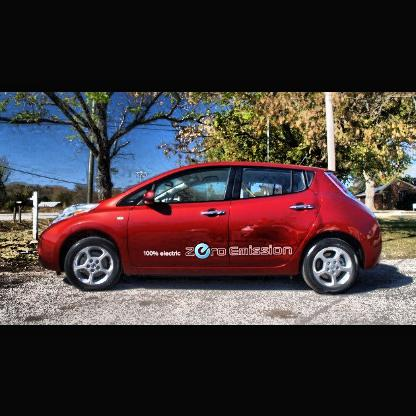Nissan Leaf Hatchback 2012: (40, 162, 384, 296)
